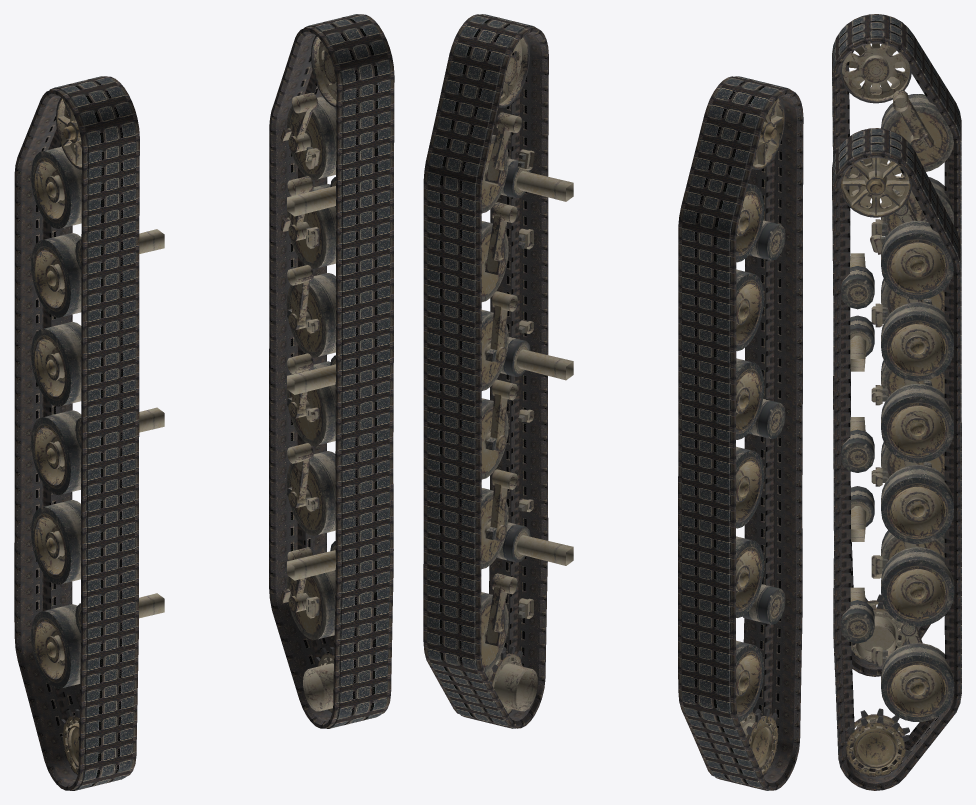
Rendered from Chassis.glb.
The picture shows the model from 3 angles, left to right: view 1: azimuth 30°, elevation 25°; view 2: azimuth 150°, elevation 25°; view 3: azimuth 270°, elevation 25°; orthographic projection. The views are drawn at different scales.
Parts seen in each view (by area): view 1: set_0_group_0, set_1_group_0, set_3_group_0, set_2_group_0; view 2: set_0_group_0, set_1_group_0, set_3_group_0, set_2_group_0; view 3: set_3_group_0, set_1_group_0, set_2_group_0, set_0_group_0.
Boxes of the visible parts, x1,y1,x2,y2 form: set_0_group_0: (14, 76, 139, 790); set_1_group_0: (269, 14, 394, 728); set_3_group_0: (280, 35, 336, 712); set_2_group_0: (31, 97, 164, 774); set_0_group_0: (678, 76, 803, 790); set_1_group_0: (423, 14, 548, 728); set_3_group_0: (481, 35, 573, 713); set_2_group_0: (736, 97, 785, 775); set_3_group_0: (840, 157, 954, 776); set_1_group_0: (832, 128, 961, 790); set_2_group_0: (840, 43, 953, 662); set_0_group_0: (832, 14, 961, 676).
Bounding box in the file's own units: 3.1 × 6.65 × 1.22.
4 materials, 4 textured.
